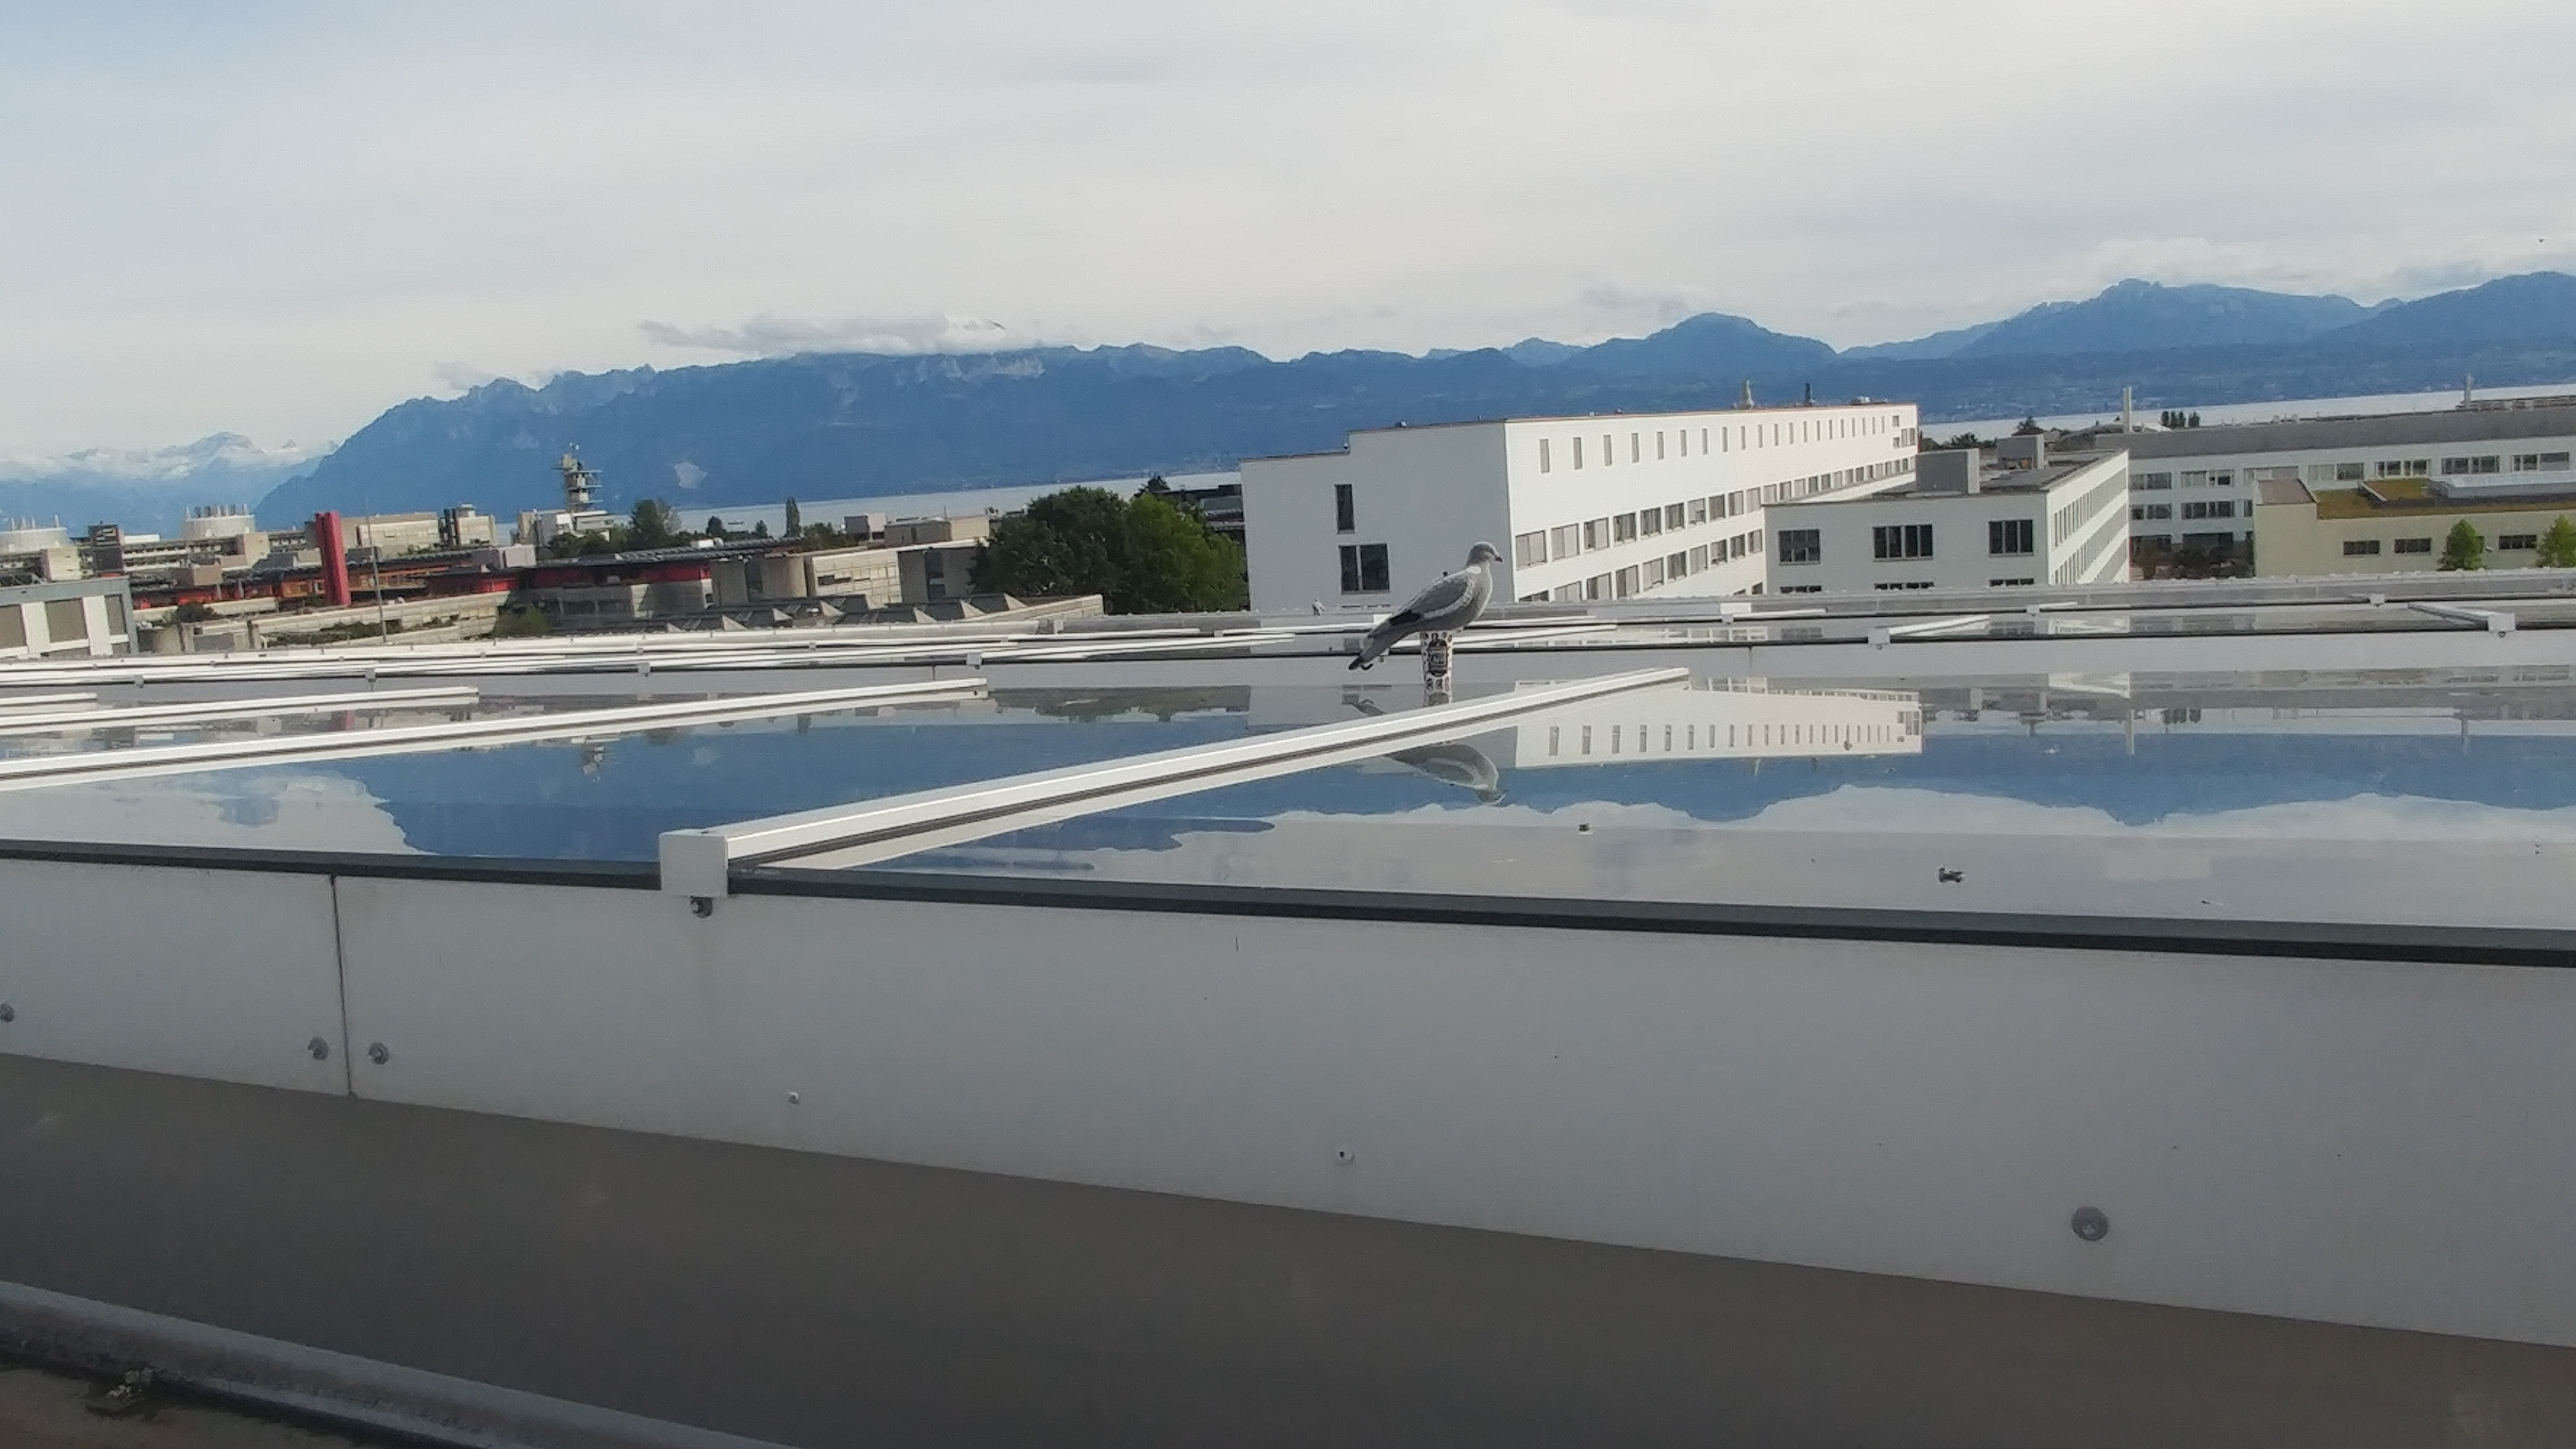Pigeon: (1348, 541, 1514, 686)
